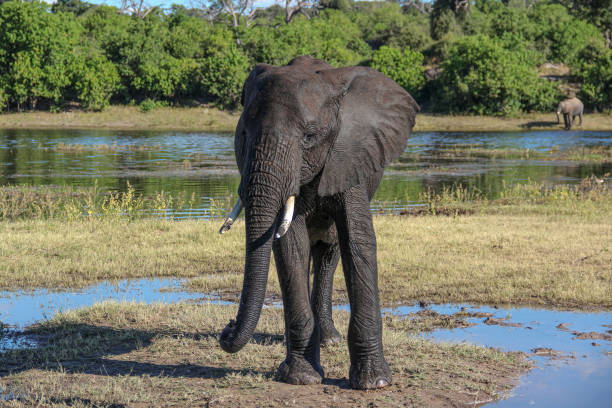africanelephant: (213, 67, 353, 280)
